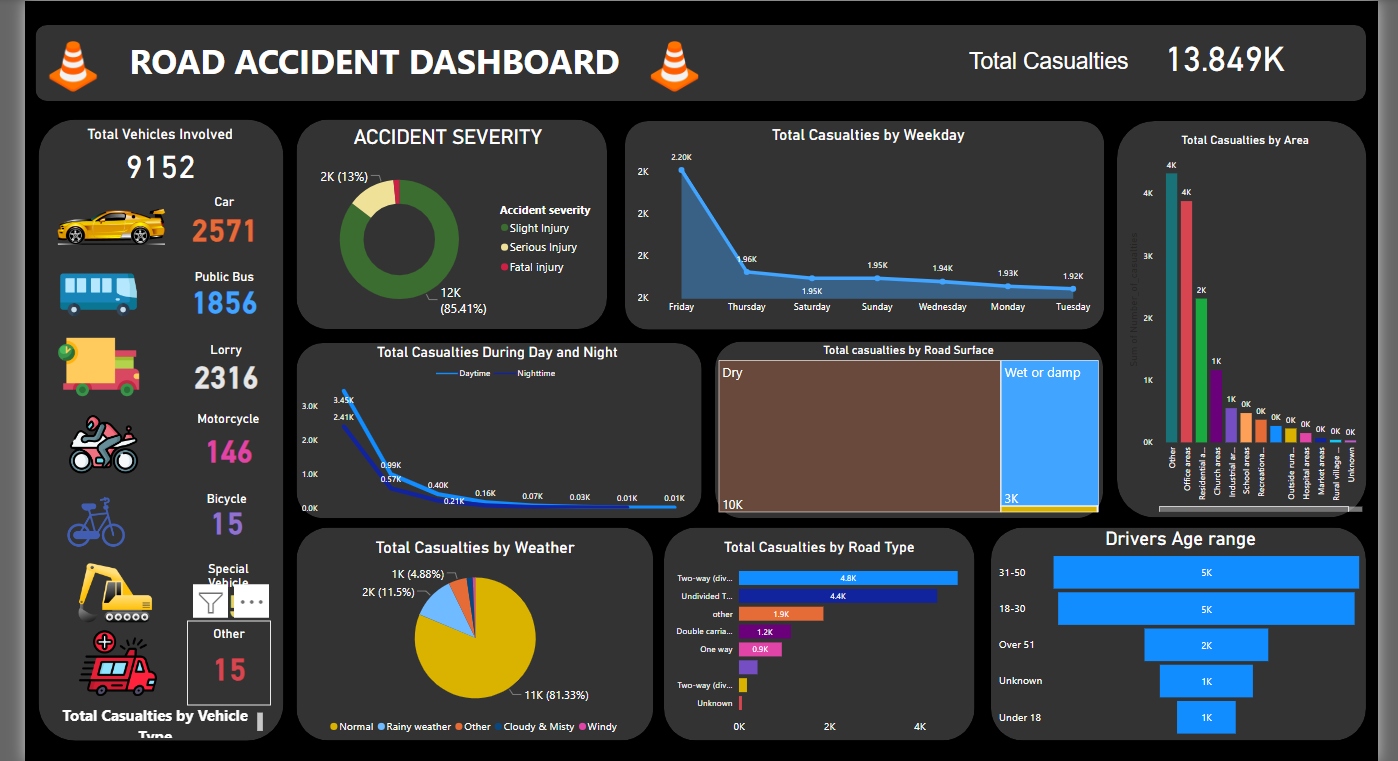

Layout of this report page (visuals, bound fields, positions):
{"tool":"powerbi","page":{"name":"Page 2","canvas":[1920,1080],"ordinal":1},"visuals":[{"type":"shape","box":[18.2,168.1,347.5,881.3],"z":0},{"type":"shape","box":[14.8,33.8,1887.4,107.8],"z":1000},{"type":"shape","box":[384.2,168.7,440.4,297.5],"z":2000},{"type":"shape","box":[1548.5,171,353.8,562.3],"z":3000},{"type":"shape","box":[979.3,482.6,550.5,250.7],"z":4000},{"type":"shape","box":[850.3,170.5,679.7,296.1],"z":5000},{"type":"shape","box":[1370.5,747.3,531.8,302.2],"z":6000},{"type":"shape","box":[906.6,747.3,440.4,302.2],"z":7000},{"type":"shape","box":[384.2,485.3,574.9,248.4],"z":8000},{"type":"shape","box":[384.2,747.3,506,302.2],"z":9000},{"type":"card","title":"Car","fields":{"Values":["CountNonNull(RTA Dataset - Copy.Number_of_vehicles_involved)"]},"box":[222.4,265.8,118.4,101.1],"z":10000},{"type":"card","title":"Public Bus","fields":{"Values":["CountNonNull(RTA Dataset - Copy.Number_of_vehicles_involved)"]},"box":[222.4,372.6,118.4,92.4],"z":11000},{"type":"card","title":"Lorry","fields":{"Values":["CountNonNull(RTA Dataset - Copy.Number_of_vehicles_involved)"]},"box":[227.7,476.6,114.9,97.9],"z":12000},{"type":"card","title":"Motorcycle","fields":{"Values":["CountNonNull(RTA Dataset - Copy.Number_of_vehicles_involved)"]},"box":[227.7,574.5,121.3,112.8],"z":13000},{"type":"card","title":"Bicycle","fields":{"Values":["CountNonNull(RTA Dataset - Copy.Number_of_vehicles_involved)"]},"box":[227.7,687.2,117,91.5],"z":14000},{"type":"card","title":"Special Vehicle","fields":{"Values":["CountNonNull(RTA Dataset - Copy.Number_of_vehicles_involved)"]},"box":[229.8,787.2,117,106.4],"z":15000},{"type":"card","title":"Other","fields":{"Values":["CountNonNull(RTA Dataset - Copy.Number_of_vehicles_involved)"]},"box":[229.8,878.7,119.1,121.3],"z":16000},{"type":"card","title":"Total Casualties","fields":{"Values":["Sum(RTA Dataset - Copy.Number_of_casualties)"]},"box":[1576.7,46.5,249.4,59.2],"z":17000},{"type":"areaChart","title":"Total Casualties by Weekday","fields":{"Category":["RTA Dataset - Copy.Day_of_week"],"Y":["Sum(RTA Dataset - Copy.Number_of_casualties)"]},"box":[864.6,175.8,664.6,276.8],"z":18000},{"type":"lineChart","title":"Total Casualties During Day and Night","fields":{"Category":["RTA Dataset - Copy.Number_of_casualties"],"Y":["CountNonNull(RTA Dataset - Copy.Table2Afternoon)","CountNonNull(RTA Dataset - Copy.Table2Morning)"]},"box":[383.8,484.8,574.7,246.5],"z":19000},{"type":"card","title":"Total Vehicles Involved","fields":{"Values":["CountNonNull(RTA Dataset - Copy.Number_of_vehicles_involved)"]},"box":[69.3,176.2,242.7,89.6],"z":20000},{"type":"donutChart","title":"ACCIDENT SEVERITY","fields":{"Y":["Sum(RTA Dataset - Copy.Number_of_casualties)"],"Category":["RTA Dataset - Copy.Accident_severity"]},"box":[383.8,175.8,433.3,289.9],"z":21000},{"type":"pieChart","title":"Total Casualties by Weather","fields":{"Y":["Sum(RTA Dataset - Copy.Number_of_casualties)"],"Category":["RTA Dataset - Copy.Weather_conditions (groups)"]},"box":[385.1,761.7,506.4,287.2],"z":21002},{"type":"funnel","title":"Drivers Age range","fields":{"Category":["RTA Dataset - Copy.Age_band_of_driver"],"Y":["Sum(RTA Dataset - Copy.Number_of_casualties)"]},"box":[1370.2,746.8,531.9,302.1],"z":21003},{"type":"barChart","title":"Total Casualties by Road Type","fields":{"Y":["Sum(RTA Dataset - Copy.Number_of_casualties)"],"Category":["RTA Dataset - Copy.Lanes_or_Medians"],"Series":["RTA Dataset - Copy.Lanes_or_Medians"]},"box":[906.4,761.7,440.4,287.2],"z":21004},{"type":"columnChart","title":"Total Casualties by Area","fields":{"Series":["RTA Dataset - Copy.Area_accident_occured"],"Y":["Sum(RTA Dataset - Copy.Number_of_casualties)"],"Category":["RTA Dataset - Copy.Area_accident_occured"]},"box":[1559.6,187.2,342.6,542.6],"z":21005},{"type":"treemap","title":"Total casualties by Road Surface","fields":{"Group":["RTA Dataset - Copy.Road_surface_conditions"],"Values":["Sum(RTA Dataset - Copy.Number_of_casualties)"]},"box":[978.7,485.1,548.9,244.7],"z":21006},{"type":"textbox","box":[70.2,46.8,851.1,74.5],"z":21007},{"type":"textbox","box":[1327.7,61.7,248.9,59.6],"z":21008},{"type":"textbox","box":[34,1000,308.5,48.9],"z":21009},{"type":"image","box":[34,231.9,176.6,168.1],"z":21010},{"type":"image","box":[40.4,574.5,142.6,108.5],"z":21011},{"type":"image","box":[42.6,778.7,170.2,121.3],"z":21012},{"type":"image","box":[14.9,44.7,106.4,95.7],"z":21013},{"type":"image","box":[868.1,44.7,106.4,95.7],"z":21014},{"type":"image","box":[40.4,453.2,127.7,131.9],"z":21015},{"type":"image","box":[53.2,878.7,157.4,121.3],"z":21016},{"type":"image","box":[42.6,687.2,117,104.3],"z":21017},{"type":"image","box":[44.7,351.1,119.1,131.9],"z":21018}]}

Visuals, with their boxes in screenshot pixels (x1, y1, x2, y2):
shape: Rect(114, 138, 347, 729)
shape: Rect(112, 48, 1377, 120)
shape: Rect(359, 139, 655, 338)
shape: Rect(1140, 140, 1377, 517)
shape: Rect(758, 349, 1127, 517)
shape: Rect(672, 140, 1127, 338)
shape: Rect(1020, 526, 1377, 729)
shape: Rect(710, 526, 1005, 729)
shape: Rect(359, 351, 745, 517)
shape: Rect(359, 526, 699, 729)
"Car" card: Rect(251, 204, 330, 271)
"Public Bus" card: Rect(251, 275, 330, 337)
"Lorry" card: Rect(255, 345, 332, 410)
"Motorcycle" card: Rect(255, 410, 336, 486)
"Bicycle" card: Rect(255, 486, 333, 547)
"Special Vehicle" card: Rect(256, 553, 334, 624)
"Other" card: Rect(256, 614, 336, 696)
"Total Casualties" card: Rect(1159, 57, 1326, 96)
"Total Casualties by Weekday" areaChart: Rect(681, 143, 1127, 329)
"Total Casualties During Day and Night" lineChart: Rect(359, 350, 744, 516)
"Total Vehicles Involved" card: Rect(148, 144, 311, 204)
"ACCIDENT SEVERITY" donutChart: Rect(359, 143, 650, 338)
"Total Casualties by Weather" pieChart: Rect(360, 536, 699, 728)
"Drivers Age range" funnel: Rect(1020, 526, 1377, 728)
"Total Casualties by Road Type" barChart: Rect(709, 536, 1005, 728)
"Total Casualties by Area" columnChart: Rect(1147, 151, 1377, 515)
"Total casualties by Road Surface" treemap: Rect(758, 351, 1126, 515)
textbox: Rect(149, 57, 719, 107)
textbox: Rect(992, 67, 1159, 107)
textbox: Rect(125, 696, 331, 728)
image: Rect(125, 181, 243, 294)
image: Rect(129, 410, 225, 483)
image: Rect(130, 547, 245, 629)
image: Rect(112, 55, 183, 120)
image: Rect(684, 55, 755, 120)
image: Rect(129, 329, 215, 418)
image: Rect(138, 614, 243, 696)
image: Rect(130, 486, 209, 556)
image: Rect(132, 261, 212, 349)
